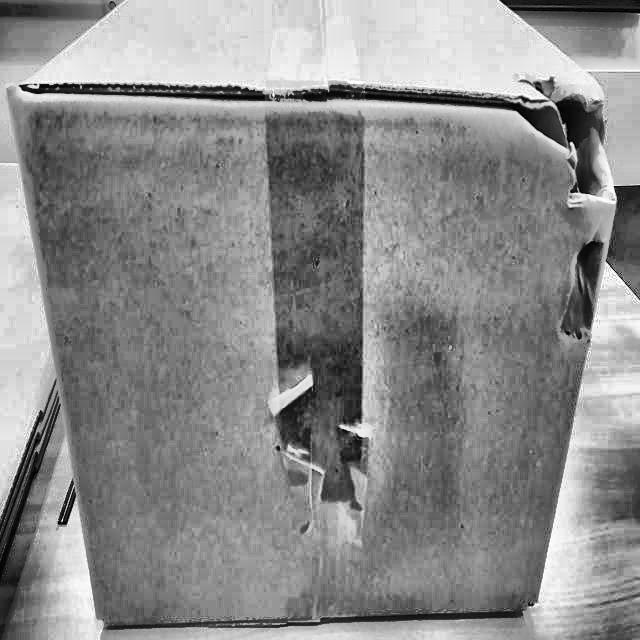box: (0, 0, 632, 636)
hole: (514, 62, 608, 224), (550, 228, 621, 346)
